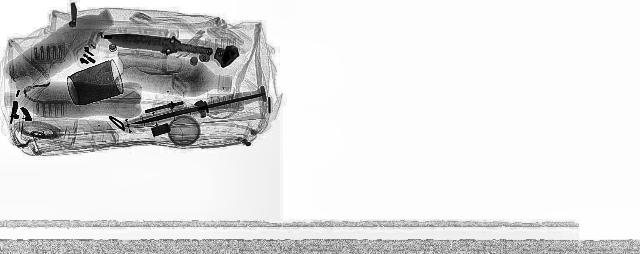Knife: (118, 88, 276, 130), (91, 26, 222, 60)
